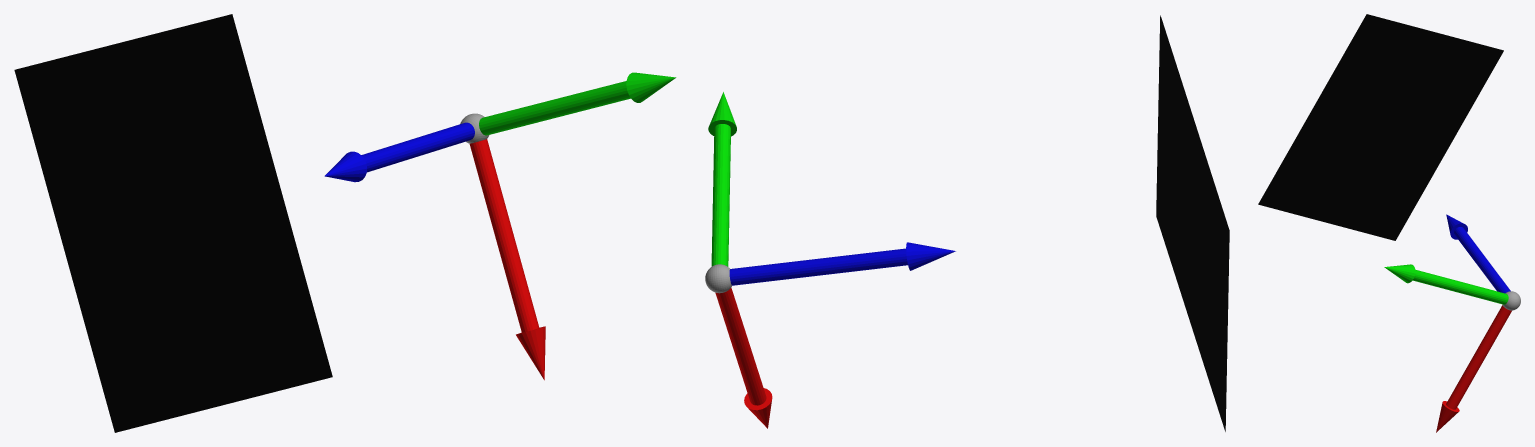
3 renders of one model, left to right at view 1: azimuth 30°, elevation 25°; view 2: azimuth 150°, elevation 25°; view 3: azimuth 270°, elevation 25°, orthographic. The views are drawn at different scales.
Size of the model in its own units: 0.3123 by 0.2628 by 0.2035.
